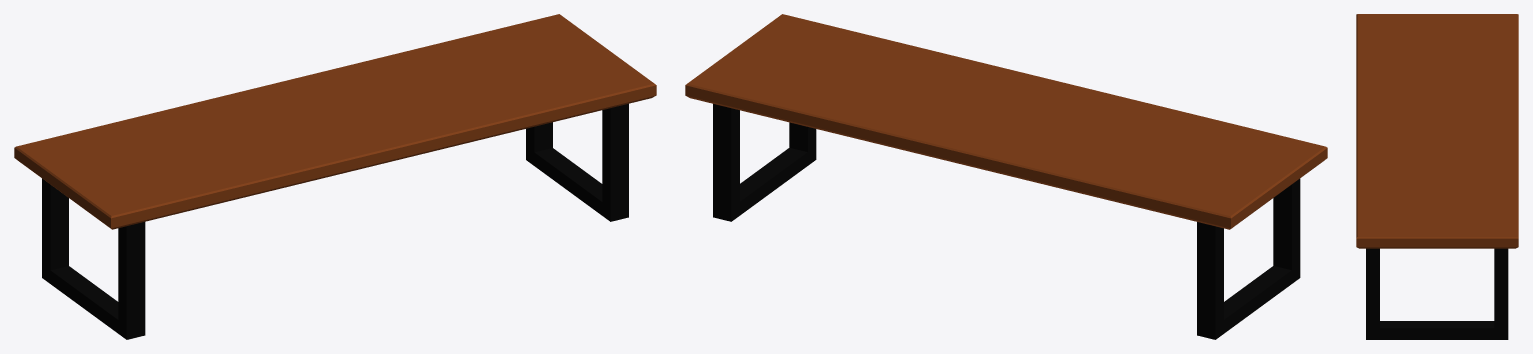
The model's file is Large table.fbx.
3 renders of one model, left to right at view 1: azimuth 30°, elevation 25°; view 2: azimuth 150°, elevation 25°; view 3: azimuth 270°, elevation 25°, orthographic. The views are drawn at different scales.
Visible parts, largest first — view 1: Larg; view 2: Larg; view 3: Larg.
Part boxes in pixels (<box>): Larg: <box>14,14,656,339</box>; Larg: <box>685,14,1327,339</box>; Larg: <box>1356,14,1518,339</box>.
Bounding box in the file's own units: 675 × 157 × 207.
